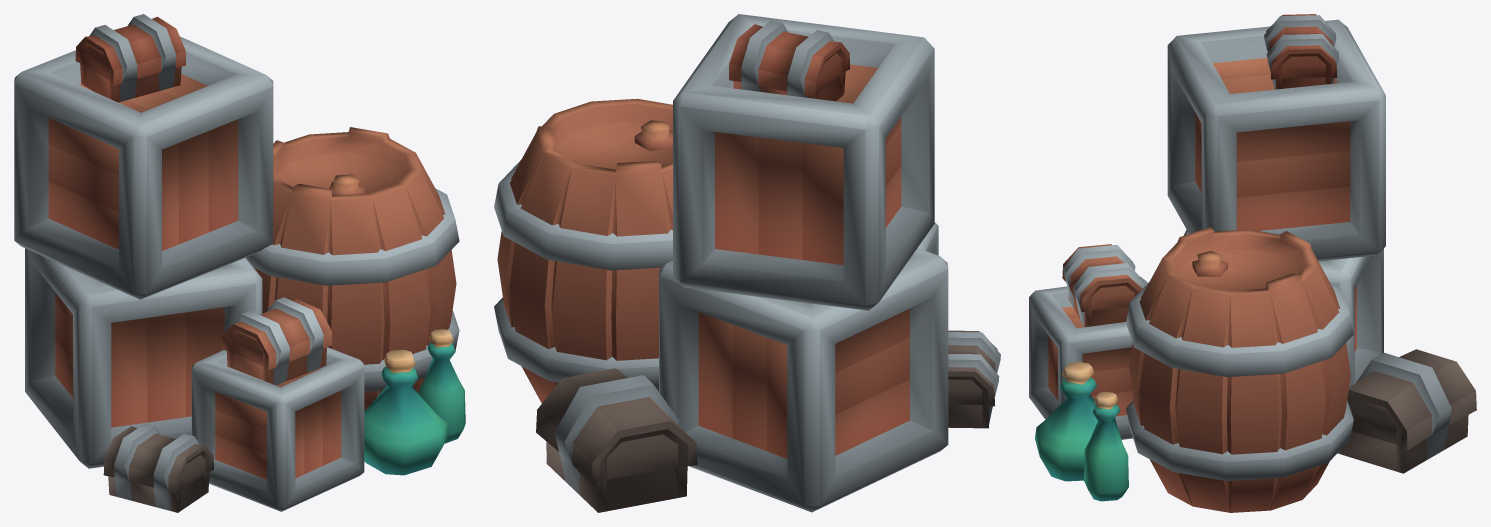
The model's file is box_stack-optimized.glb.
3 views of the same model, side by side, from view 1: azimuth 30°, elevation 25°; view 2: azimuth 150°, elevation 25°; view 3: azimuth 270°, elevation 25° (orthographic). The views are drawn at different scales.
Parts seen in each view (by area): view 1: box_stacked; view 2: box_stacked; view 3: box_stacked.
Boxes of the visible parts, x1,y1,x2,y2 form: box_stacked: (14, 14, 465, 512); box_stacked: (494, 14, 1000, 512); box_stacked: (1029, 14, 1476, 512).
Bounding box in the file's own units: 3.48 × 3.31 × 3.63.
1 material, 1 textured.
